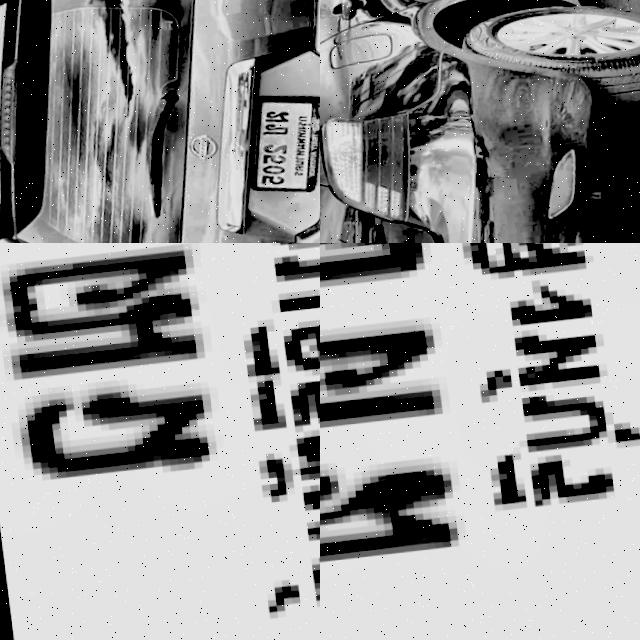license-plate: (0, 243, 320, 640), (320, 243, 640, 640), (228, 91, 320, 204)
